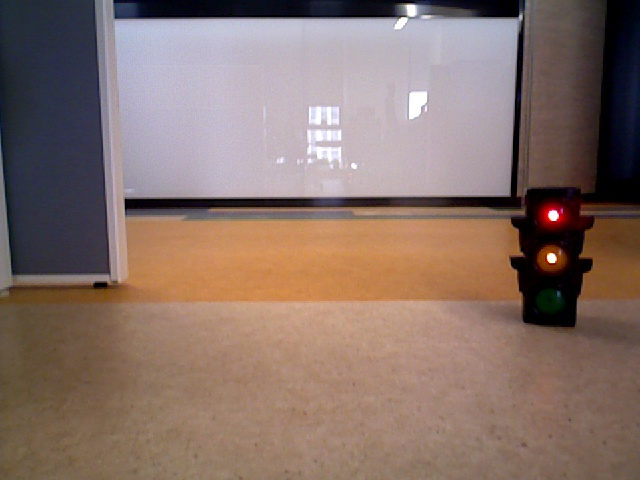red: (525, 194, 576, 322)
